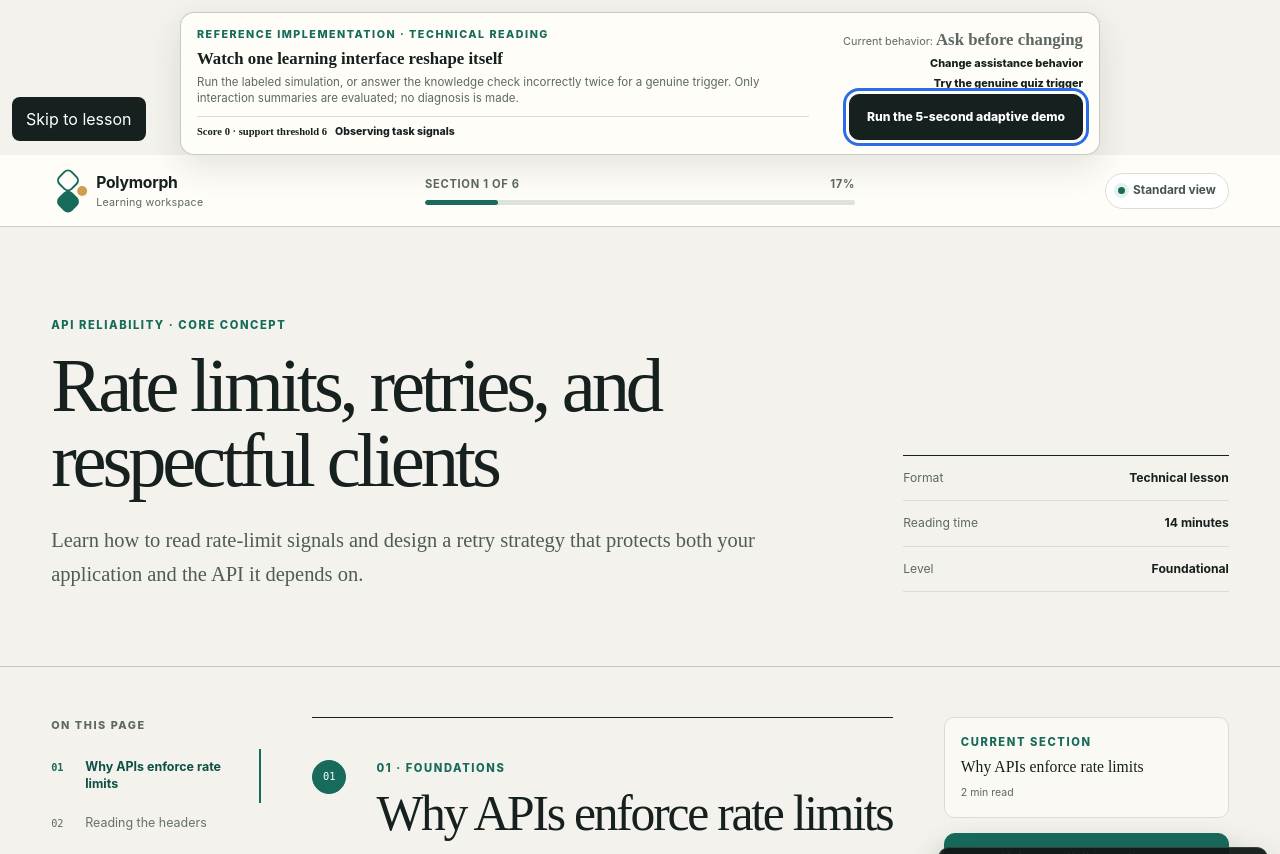
it: AdaptiveWorkspace learner journey › lets the learner abort a stalled request and rejects its late response
Click the button with aria-label "simulate reading friction": (966, 117) [849,94,1083,140]
Wait 4650 ms
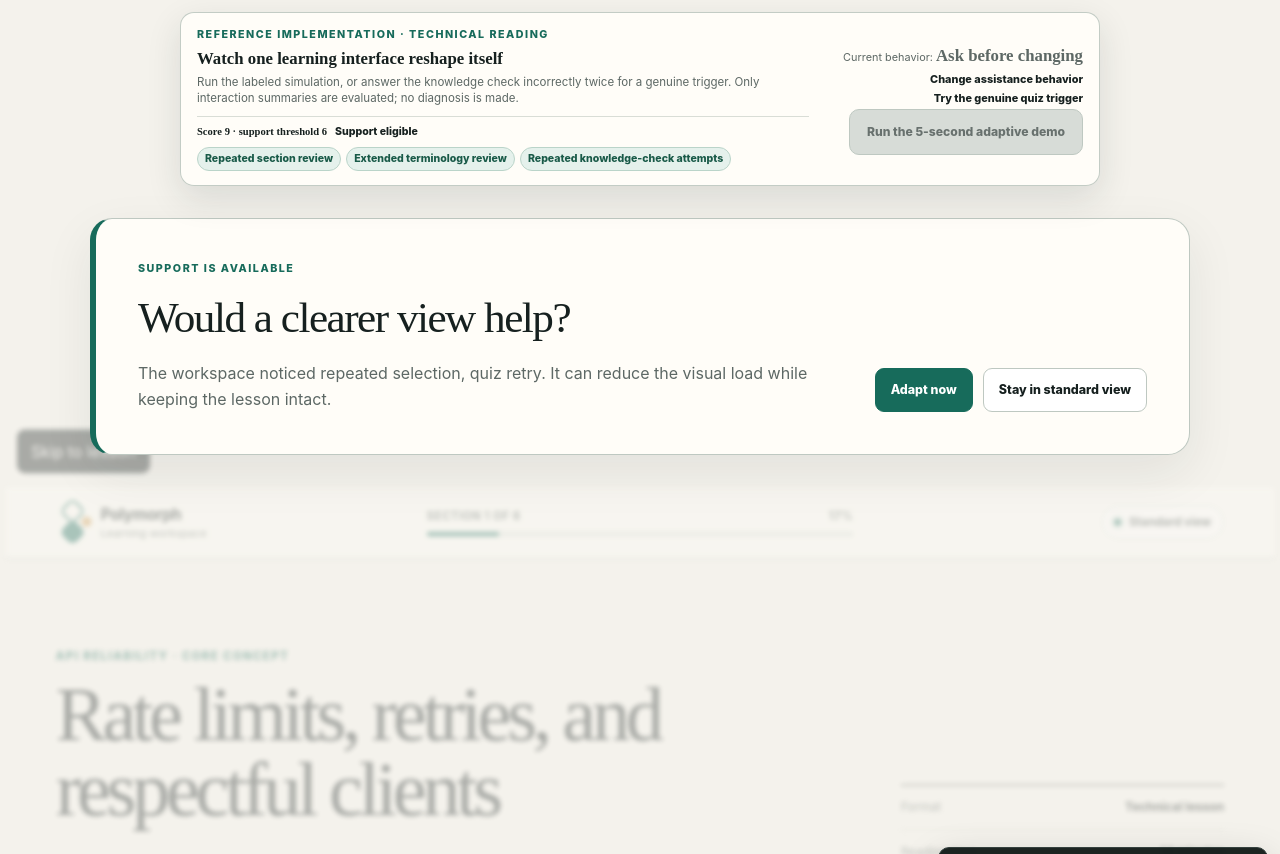
Click the button "Adapt now": (924, 390) [875,368,973,412]
Wait 1 ms
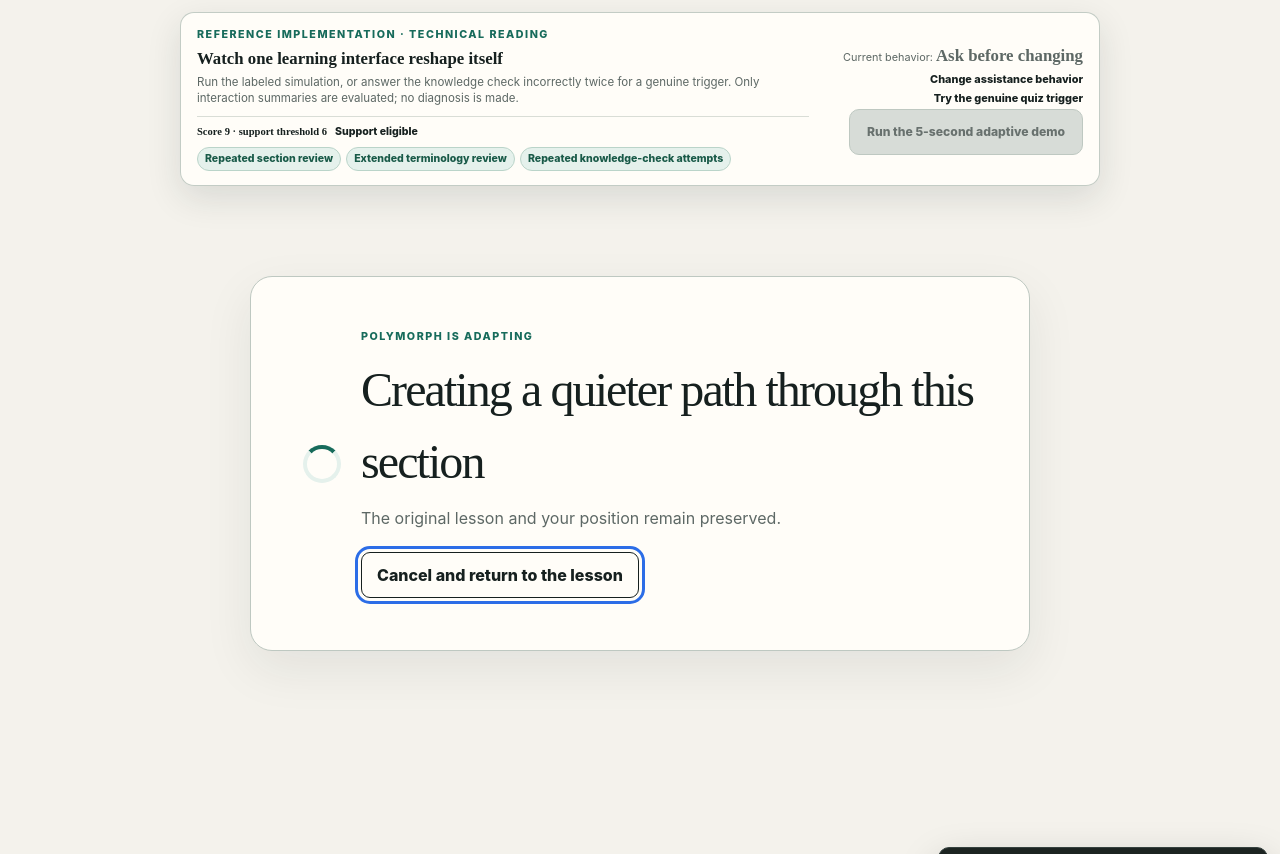
Now the heading "Creating a quieter path through this section" is shown, box [361,354,977,498]
Click the button "Cancel and return to the lesson": (500, 575) [361,552,639,598]
Wait 1 ms
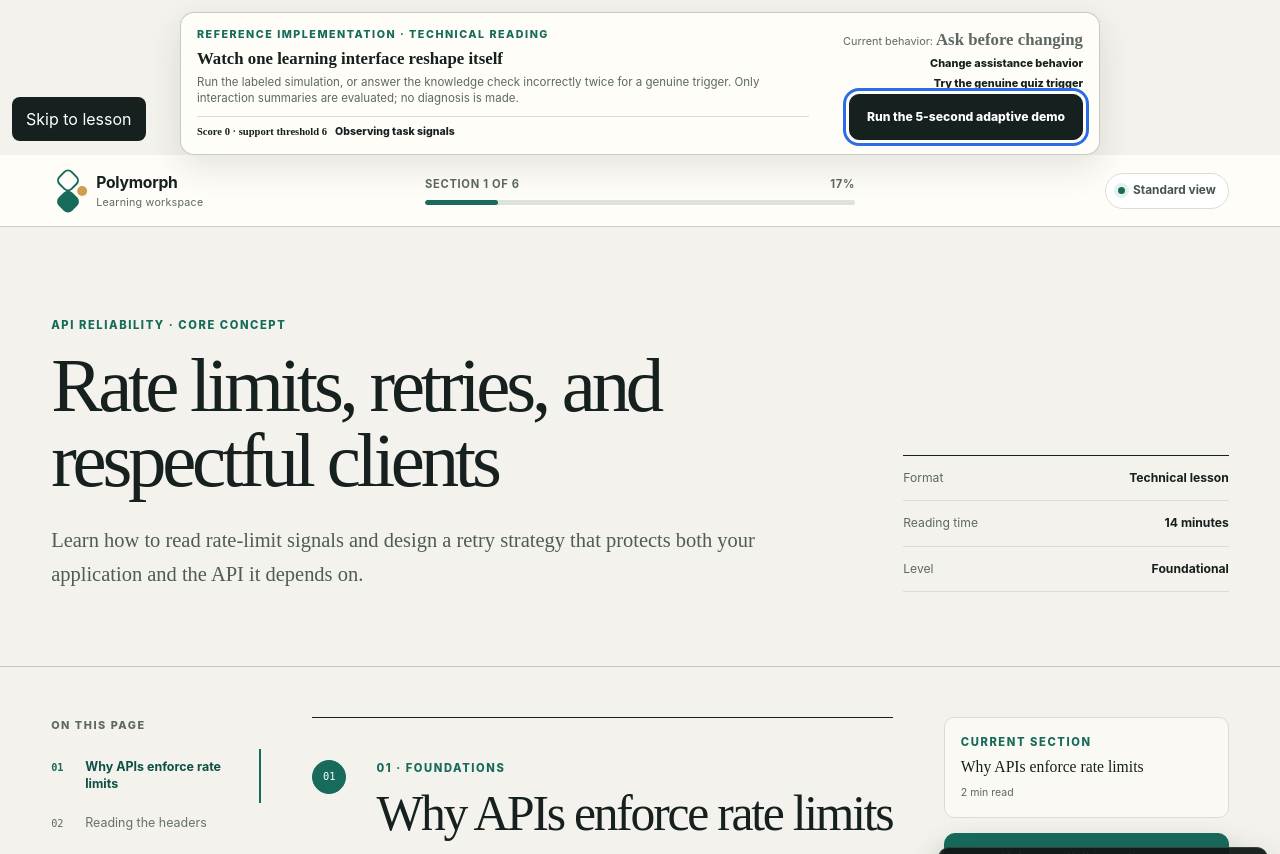
Now the heading "Rate limits, retries, and respectful clients" is shown, box [51,343,660,503]
